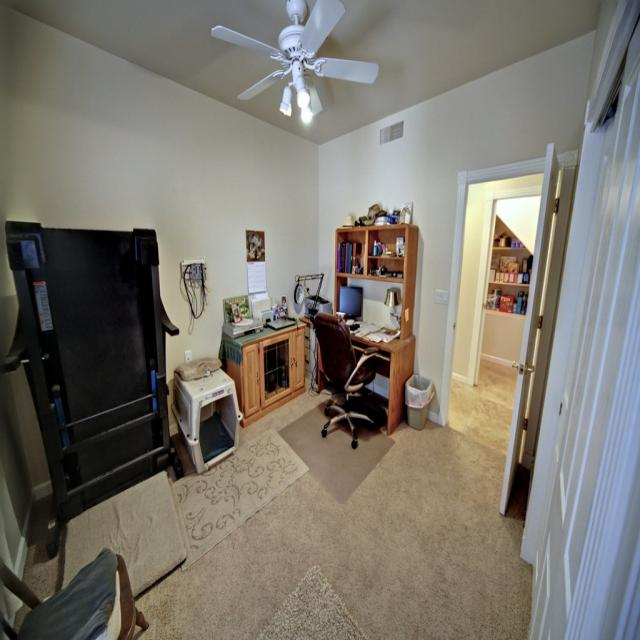Bulb: (210, 0, 380, 125)
